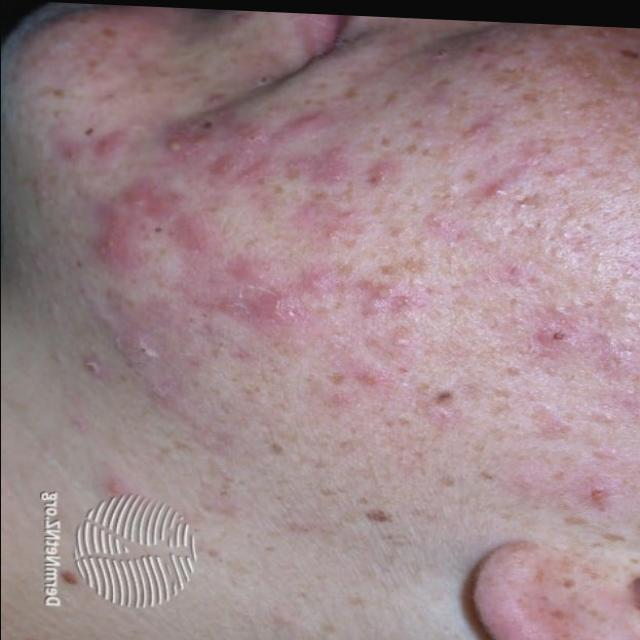8: (342, 266, 419, 322), (286, 141, 356, 193), (501, 304, 586, 343), (238, 278, 298, 331), (121, 168, 183, 215), (172, 215, 224, 265), (86, 108, 134, 161), (456, 100, 512, 143), (227, 105, 272, 157), (284, 101, 344, 140), (69, 469, 131, 502)
papules: (154, 110, 210, 168), (69, 213, 127, 269)
